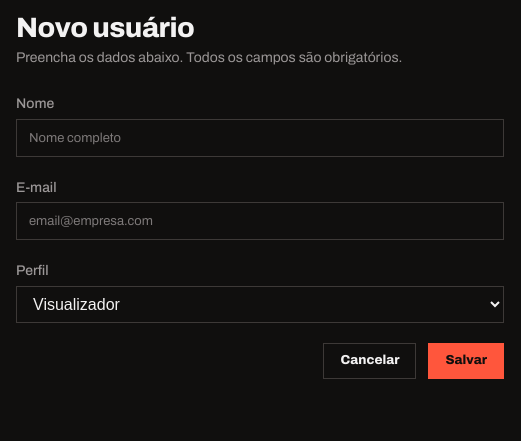
Test: UserFormScreen › exibe erros de validação ao submeter vazio
The image size is (521, 441).
Click the button "Salvar" at {"x": 466, "y": 361}, box x1=428 y1=343 x2=504 y2=379
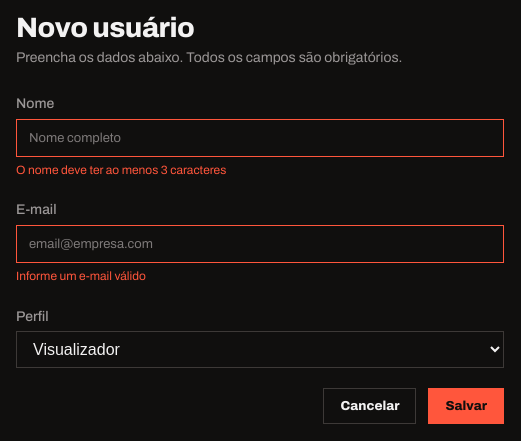
expect the text "O nome deve ter ao menos 3 caracteres" is shown: met, box x1=16 y1=163 x2=226 y2=177
expect the text "Informe um e-mail válido" is shown: met, box x1=16 y1=269 x2=146 y2=283
